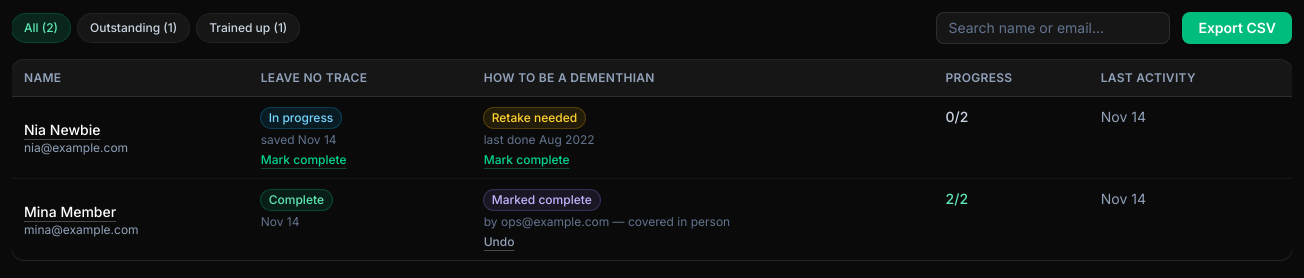
Test: TrainingTable › filters to the members who still owe training
This screenshot has width=1304, height=278.
Click the button "Outstanding (1)" at (134,28), box x1=78 y1=14 x2=189 y2=42
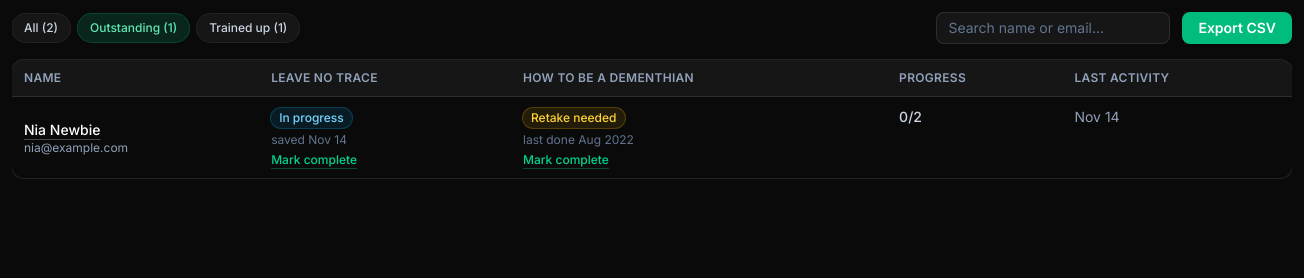
Expected: the button "Nia Newbie" is shown, x1=24 y1=120 x2=100 y2=140
Result: the button "Mina Member" is gone
